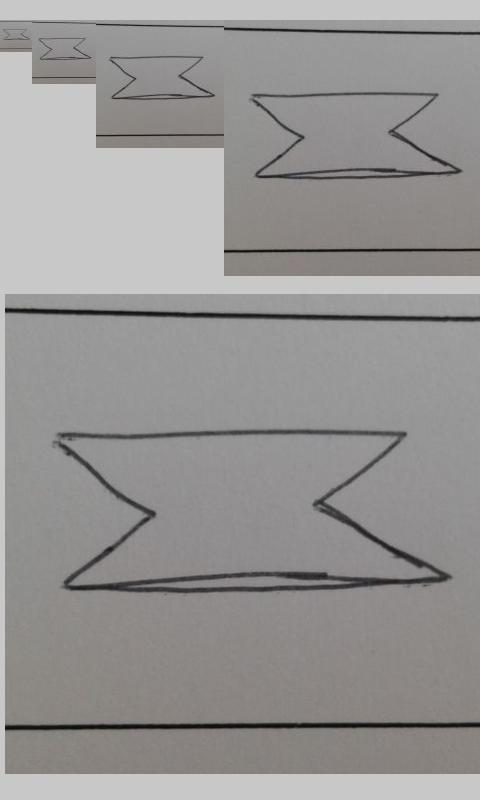edit_text: (48, 423, 447, 595), (251, 91, 464, 180), (107, 55, 216, 100), (37, 37, 92, 61), (3, 28, 30, 41)
